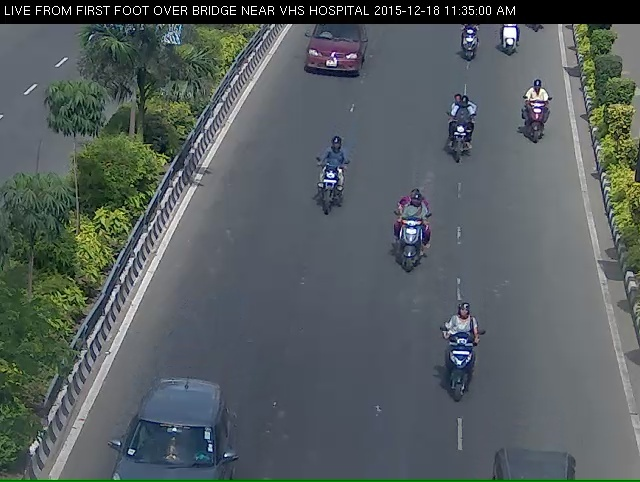Car: (106, 423, 221, 482), (296, 22, 367, 98)
Person: (437, 324, 489, 450), (385, 200, 438, 303), (303, 152, 353, 243), (440, 91, 483, 179), (518, 93, 558, 161), (455, 22, 484, 77), (502, 22, 526, 71)
